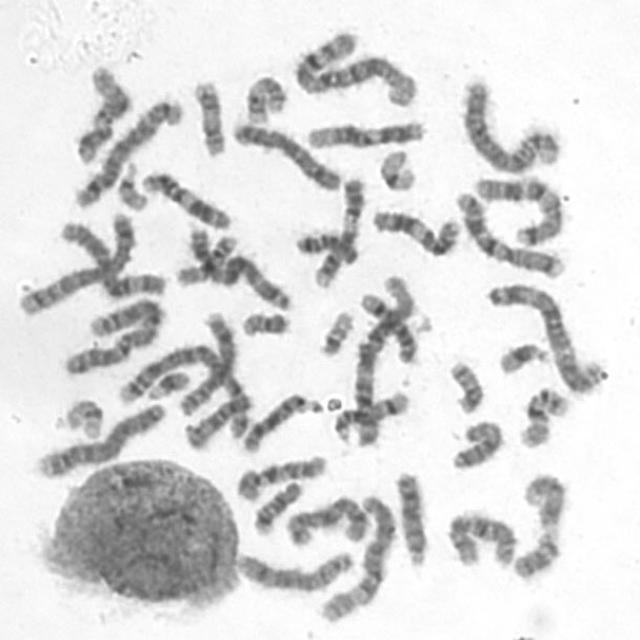A1: (346, 268, 419, 448), (290, 25, 421, 108)
A2: (114, 337, 254, 448), (58, 292, 168, 378)
A3: (482, 276, 604, 397), (182, 219, 294, 312)
B4: (32, 396, 170, 481), (457, 73, 562, 175)
B5: (70, 92, 186, 211), (15, 206, 138, 318)
C10: (230, 448, 330, 504), (442, 506, 518, 571)
C11: (136, 165, 234, 232), (366, 203, 463, 258)
C12: (70, 60, 134, 165), (301, 114, 430, 150)
C6: (314, 489, 399, 624), (56, 215, 168, 300)
C7: (450, 185, 568, 282), (468, 169, 566, 248)
C8: (175, 307, 238, 417), (229, 544, 357, 593)
C9: (308, 170, 370, 290), (508, 466, 568, 582)
D13: (237, 388, 325, 455), (390, 466, 430, 569)
D14: (355, 286, 422, 366), (328, 385, 412, 443)
D15: (179, 387, 254, 452), (446, 414, 506, 472)
E16: (514, 382, 572, 451), (173, 234, 241, 290)
E17: (188, 74, 228, 159), (240, 70, 289, 126)
E18: (248, 475, 306, 536), (291, 225, 362, 267)
F19: (374, 142, 420, 194), (58, 393, 105, 441)
F20: (443, 354, 486, 416), (235, 306, 292, 338)
G21: (492, 336, 552, 376), (140, 365, 192, 401)
G22: (314, 304, 356, 358), (112, 156, 150, 212)
X: (226, 115, 343, 194), (282, 491, 371, 549)
